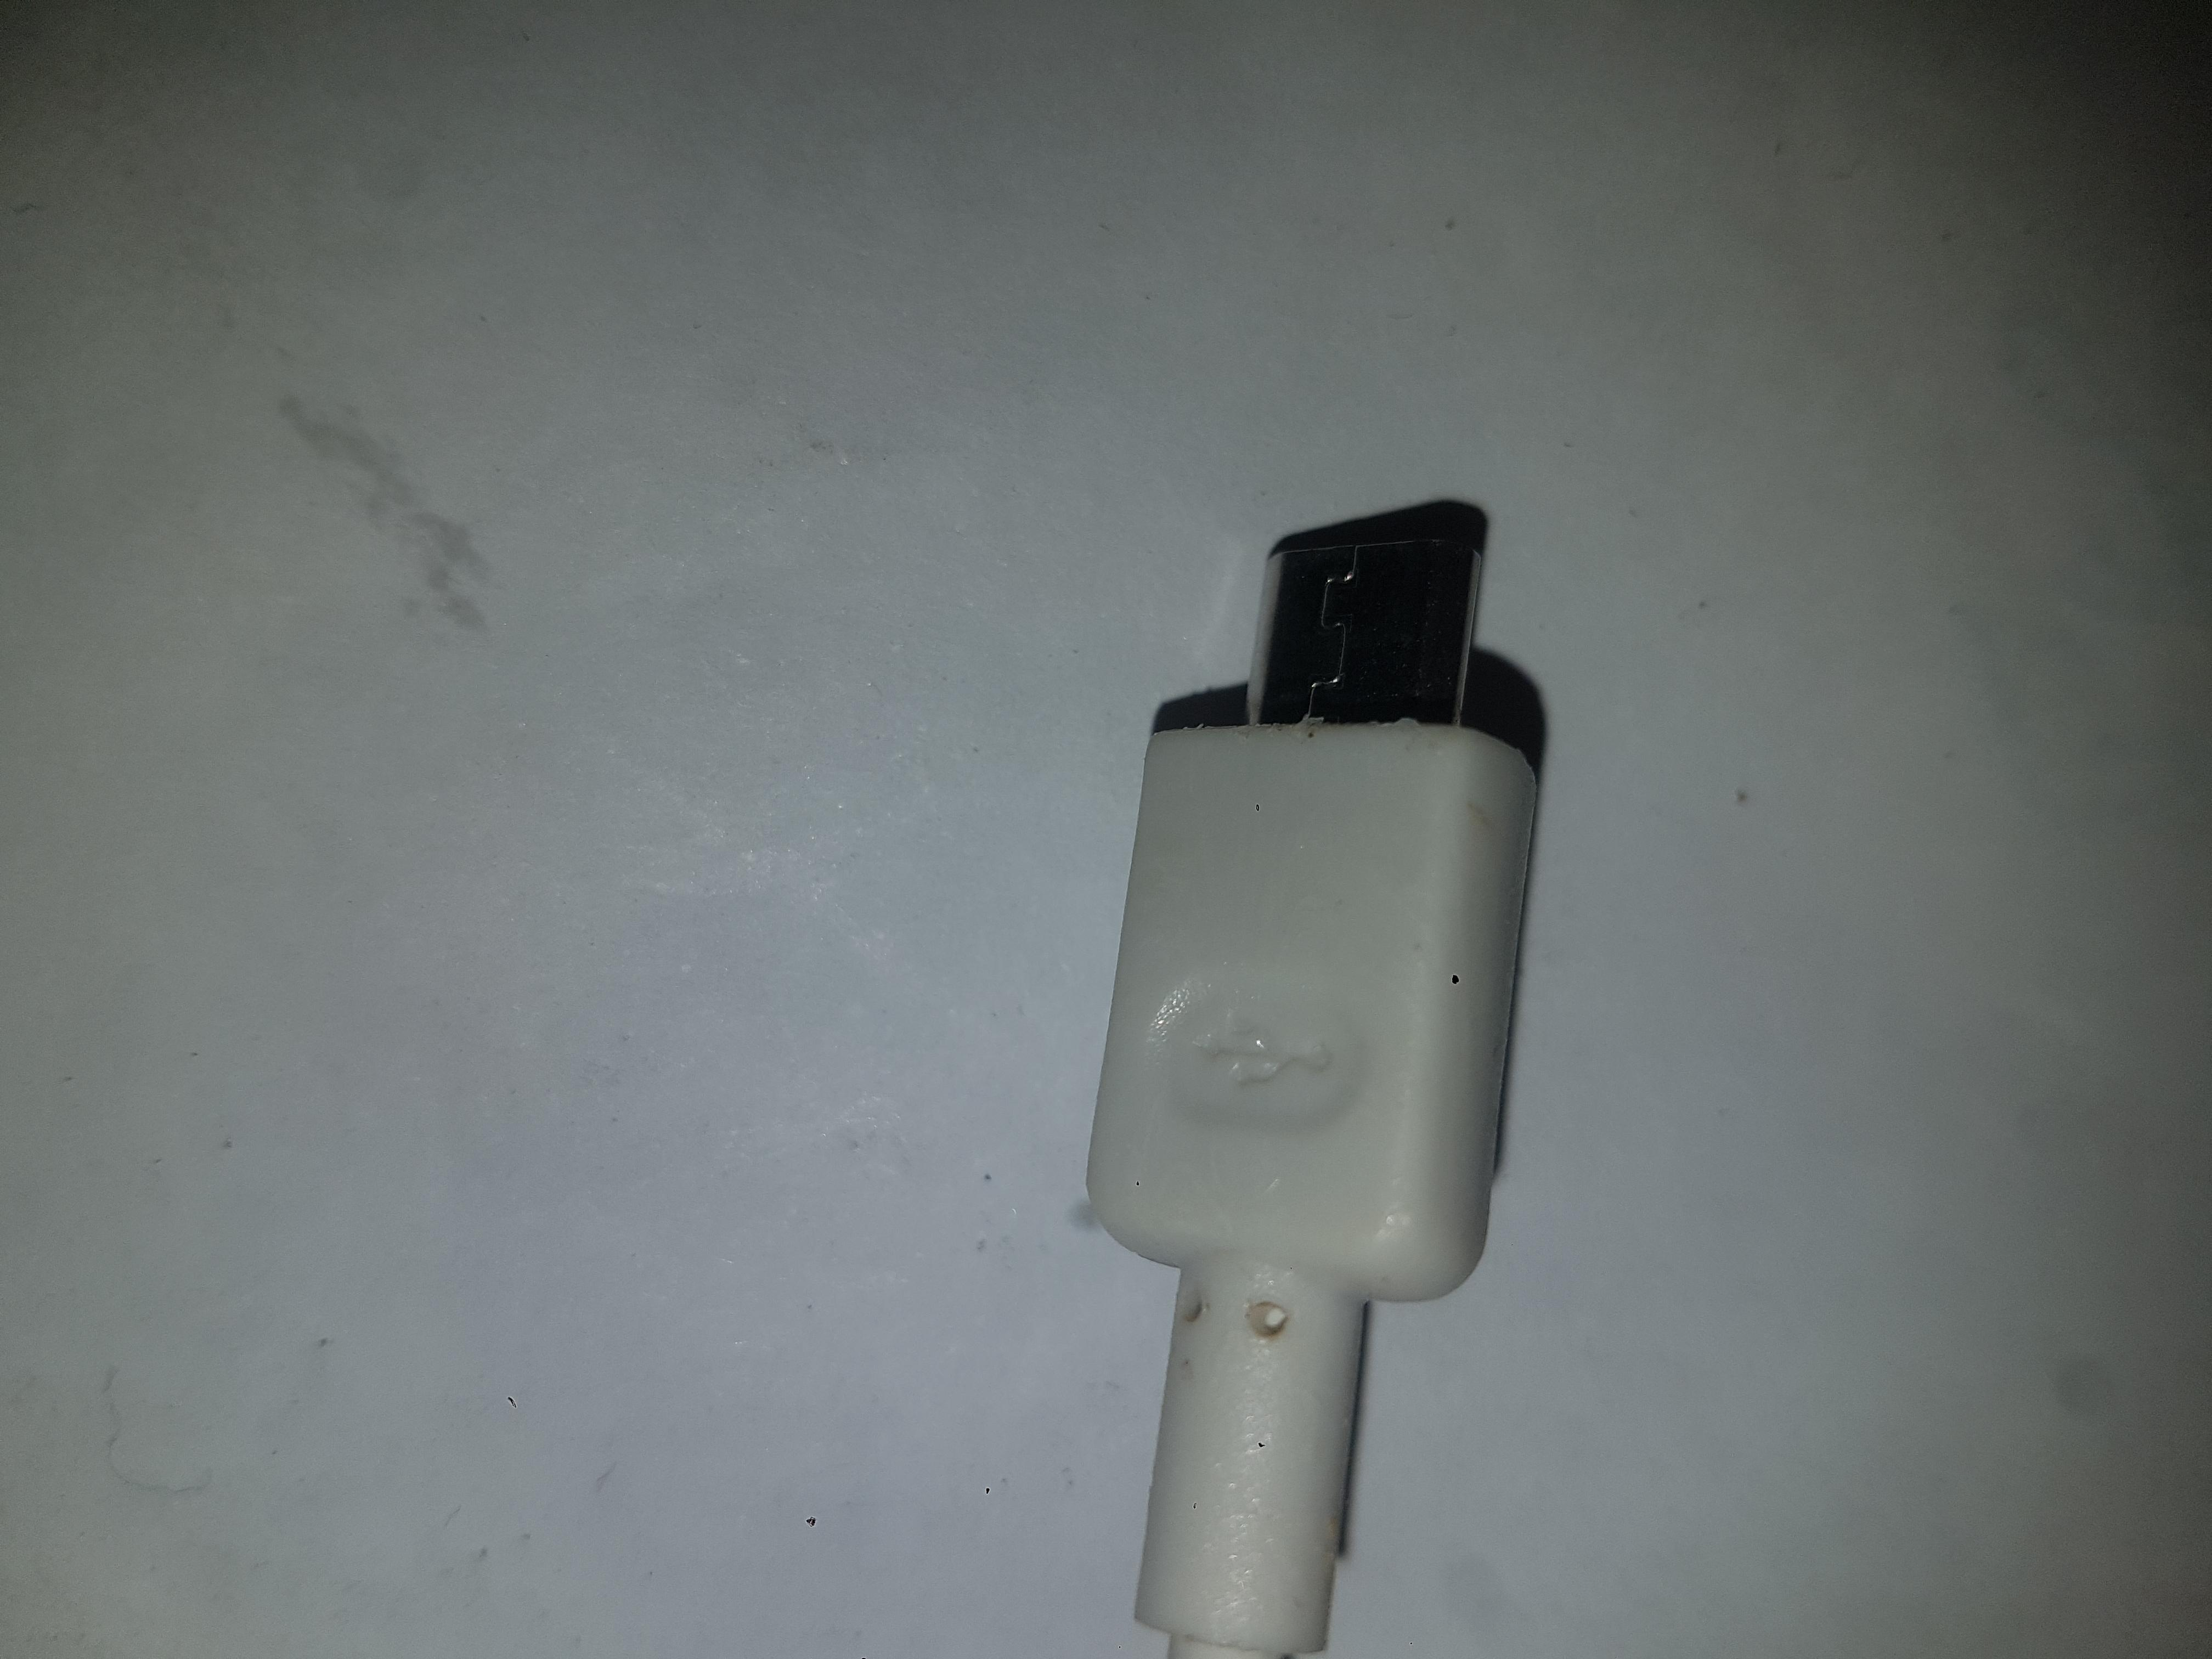electronic: (653, 0, 1153, 1169)
